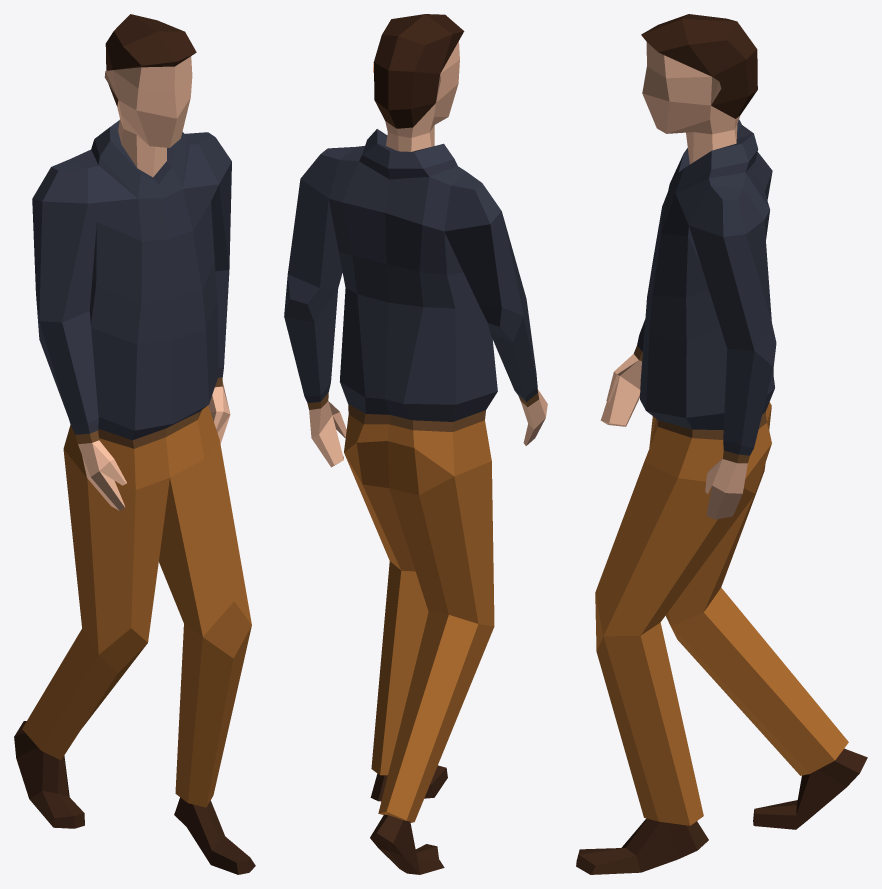
File: AutumnManA.003.glb
The picture shows the model from 3 angles, left to right: view 1: azimuth 30°, elevation 25°; view 2: azimuth 150°, elevation 25°; view 3: azimuth 270°, elevation 25°; orthographic projection. The views are drawn at different scales.
Visible parts, largest first — view 1: AutumnManA.003; view 2: AutumnManA.003; view 3: AutumnManA.003.
Part boxes in pixels (<box>): AutumnManA.003: <box>14,14,255,874</box>; AutumnManA.003: <box>284,14,547,874</box>; AutumnManA.003: <box>576,14,867,874</box>.
Size of the model in its own units: 0.4707 by 1.73 by 0.5509.
1 material, 1 textured.
